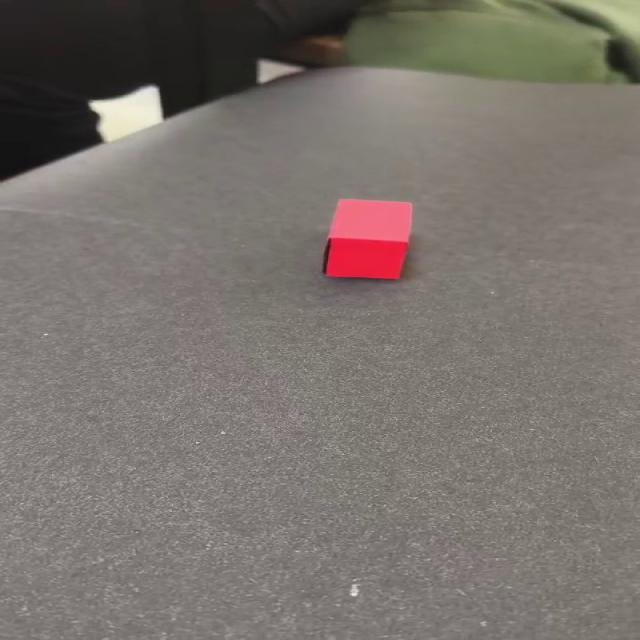red block: (322, 197, 414, 280)
